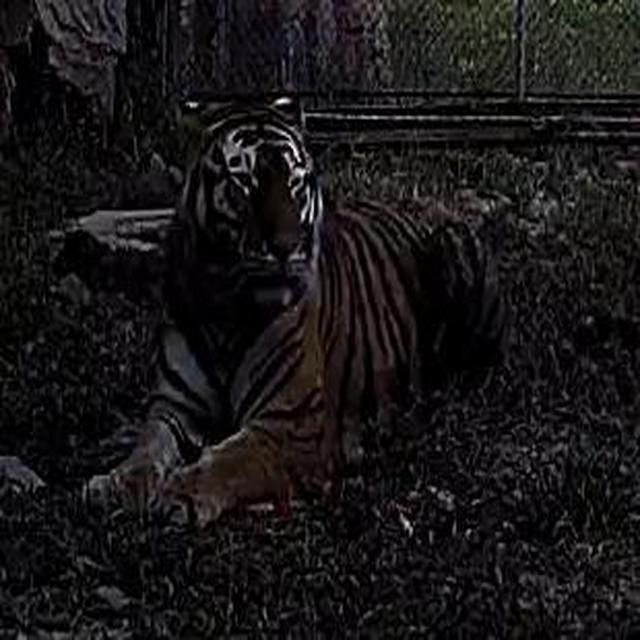tiger: (69, 56, 522, 569)
